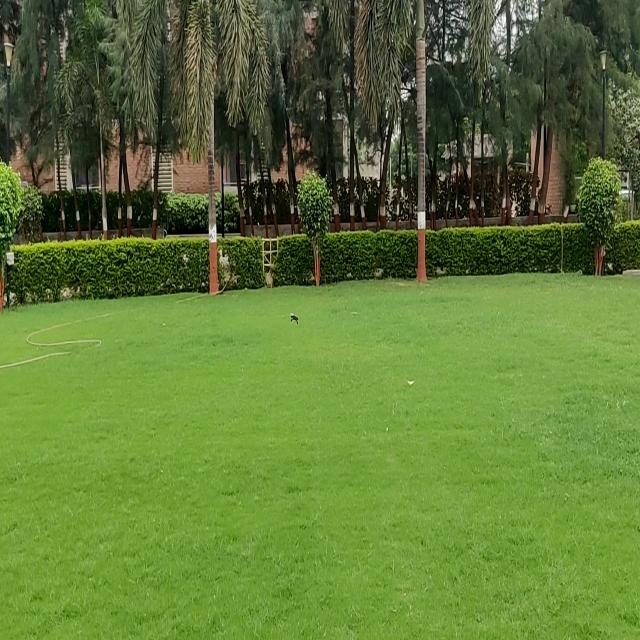drone: (288, 308, 300, 330)
